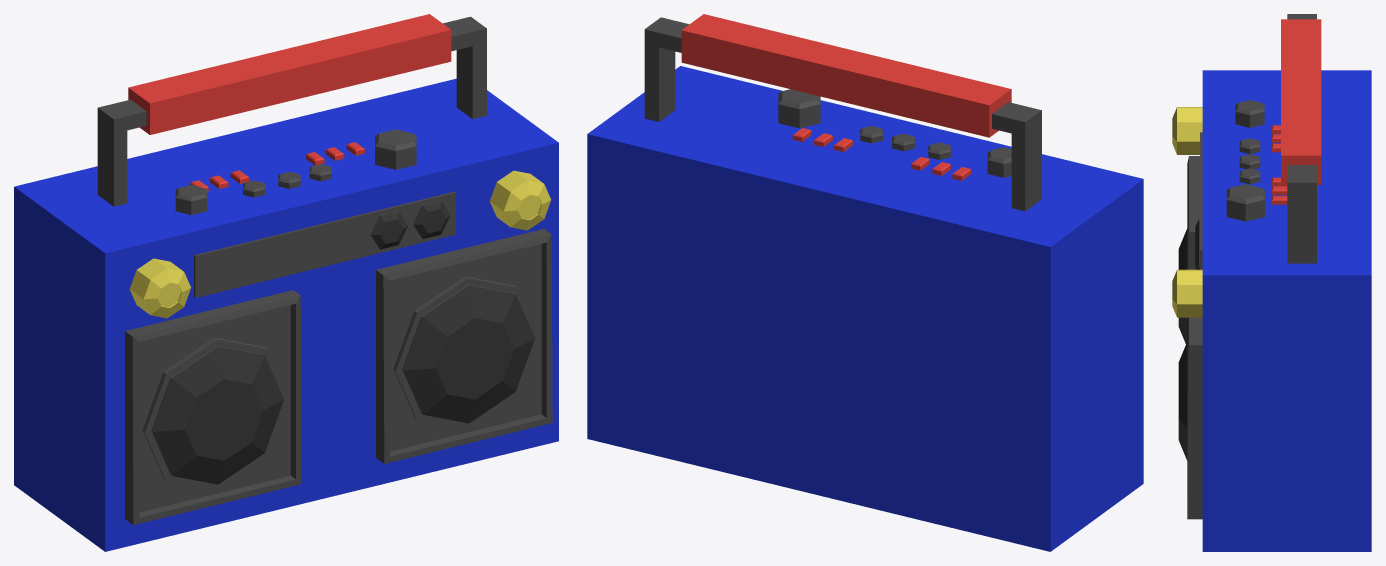
File: radioblend.fbx
The picture shows the model from 3 angles, left to right: view 1: azimuth 30°, elevation 25°; view 2: azimuth 150°, elevation 25°; view 3: azimuth 270°, elevation 25°; orthographic projection. The views are drawn at different scales.
Visible parts, largest first — view 1: basedeverdad, Cylinder.006, base, Cylinder.004, Cube.001, Cylinder.007, Cylinder.009, Cylinder, Cube.002, Cylinder.001; view 2: basedeverdad, base, Cube.001, Cylinder, Cube.002, Cylinder.001; view 3: basedeverdad, base, Cylinder.006, Cube.001, Cylinder.007, Cylinder.009, Cylinder, Cylinder.001, Cylinder.004, Cube.002, Cylinder.002, Cylinder.005 (+1 smaller).
Boxes of the visible parts, x1,y1,x2,y2 form: basedeverdad: [14, 78, 558, 551]; Cylinder.006: [125, 229, 552, 524]; base: [128, 14, 451, 134]; Cylinder.004: [194, 191, 455, 297]; Cube.001: [97, 16, 486, 206]; Cylinder.007: [489, 170, 550, 230]; Cylinder.009: [129, 258, 190, 318]; Cylinder: [375, 129, 416, 169]; Cube.002: [190, 142, 364, 191]; Cylinder.001: [175, 185, 206, 214]; basedeverdad: [587, 66, 1143, 551]; base: [681, 14, 1011, 137]; Cube.001: [644, 17, 1041, 211]; Cylinder: [778, 89, 820, 128]; Cube.002: [792, 128, 971, 180]; Cylinder.001: [987, 147, 1011, 177]; basedeverdad: [1202, 70, 1371, 551]; base: [1281, 19, 1321, 184]; Cylinder.006: [1178, 156, 1202, 519]; Cube.001: [1287, 14, 1316, 263]; Cylinder.007: [1172, 269, 1202, 317]; Cylinder.009: [1172, 107, 1202, 154]; Cylinder: [1226, 184, 1264, 221]; Cylinder.001: [1235, 100, 1264, 127]; Cylinder.004: [1195, 132, 1202, 269]; Cube.002: [1272, 125, 1287, 204]; Cylinder.002: [1239, 138, 1260, 154]; Cylinder.005: [1239, 168, 1260, 184].
Bounding box in the file's own units: 423 × 353 × 174.
